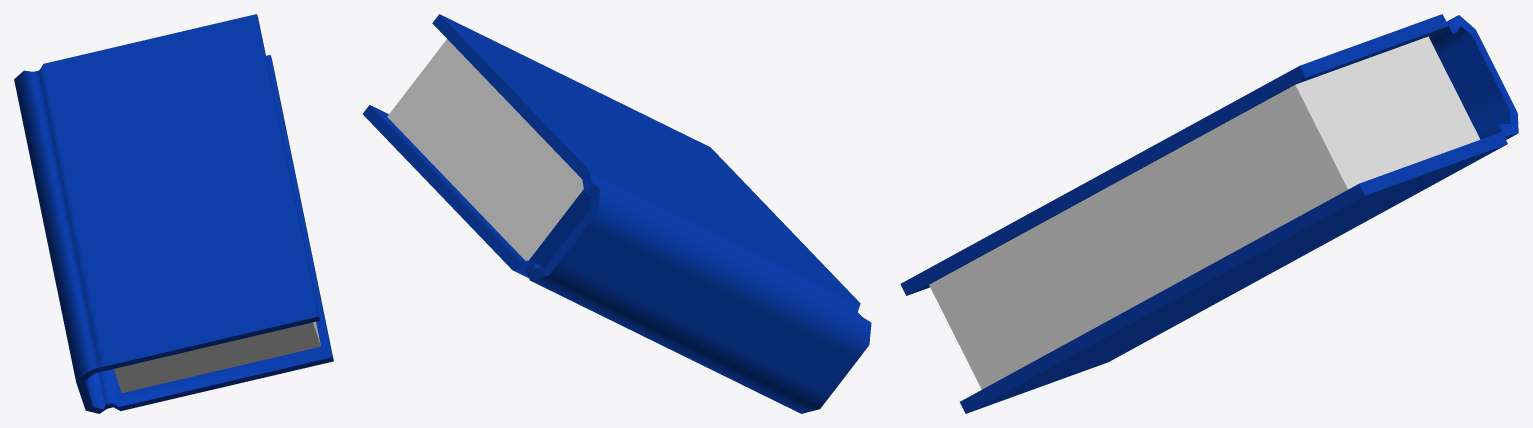
The model's file is Papel.fbx.
The picture shows the model from 3 angles, left to right: view 1: azimuth 30°, elevation 25°; view 2: azimuth 150°, elevation 25°; view 3: azimuth 270°, elevation 25°; orthographic projection. The views are drawn at different scales.
Parts seen in each view (by area): view 1: livro; view 2: livro; view 3: livro.
Boxes of the visible parts, x1,y1,x2,y2 form: livro: (14, 14, 333, 413); livro: (363, 14, 871, 413); livro: (900, 14, 1518, 413).
Size of the model in its own units: 7.97 by 7.81 by 9.88.
